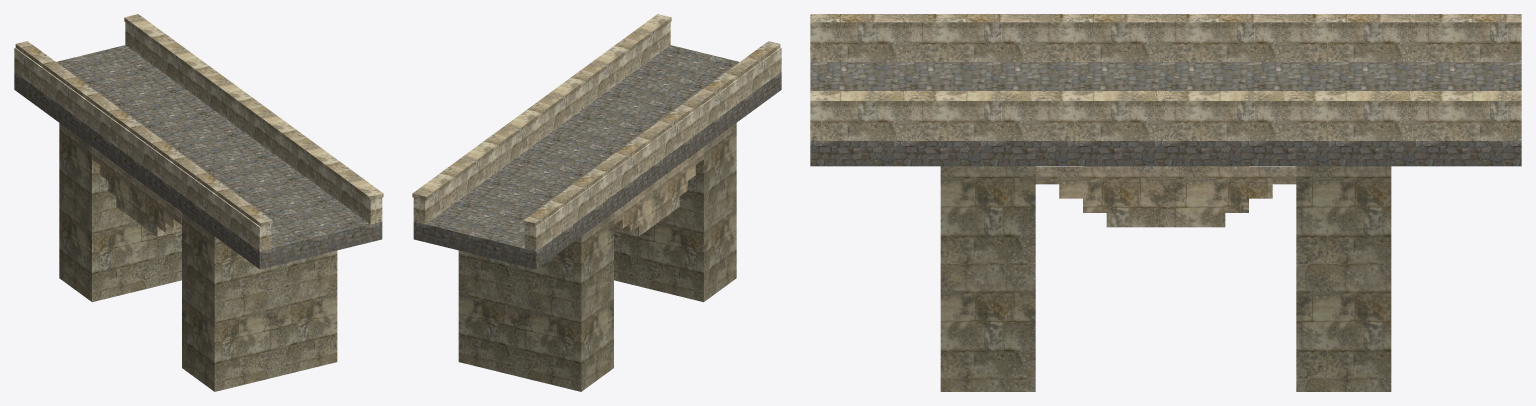
Rendered from bw-bridge.zfix-v3.lod1.glb.
3 views of the same model, side by side, from view 1: azimuth 30°, elevation 25°; view 2: azimuth 150°, elevation 25°; view 3: azimuth 270°, elevation 25° (orthographic). The views are drawn at different scales.
Visible parts, largest first — view 1: bw-bridge; view 2: bw-bridge; view 3: bw-bridge.
Boxes of the visible parts, x1,y1,x2,y2 form: bw-bridge: [14, 14, 383, 391]; bw-bridge: [412, 14, 781, 391]; bw-bridge: [810, 14, 1521, 391].
Bounding box in the file's own units: 5.26 × 8.15 × 18.
Materials: 2 (2 with a texture image).
